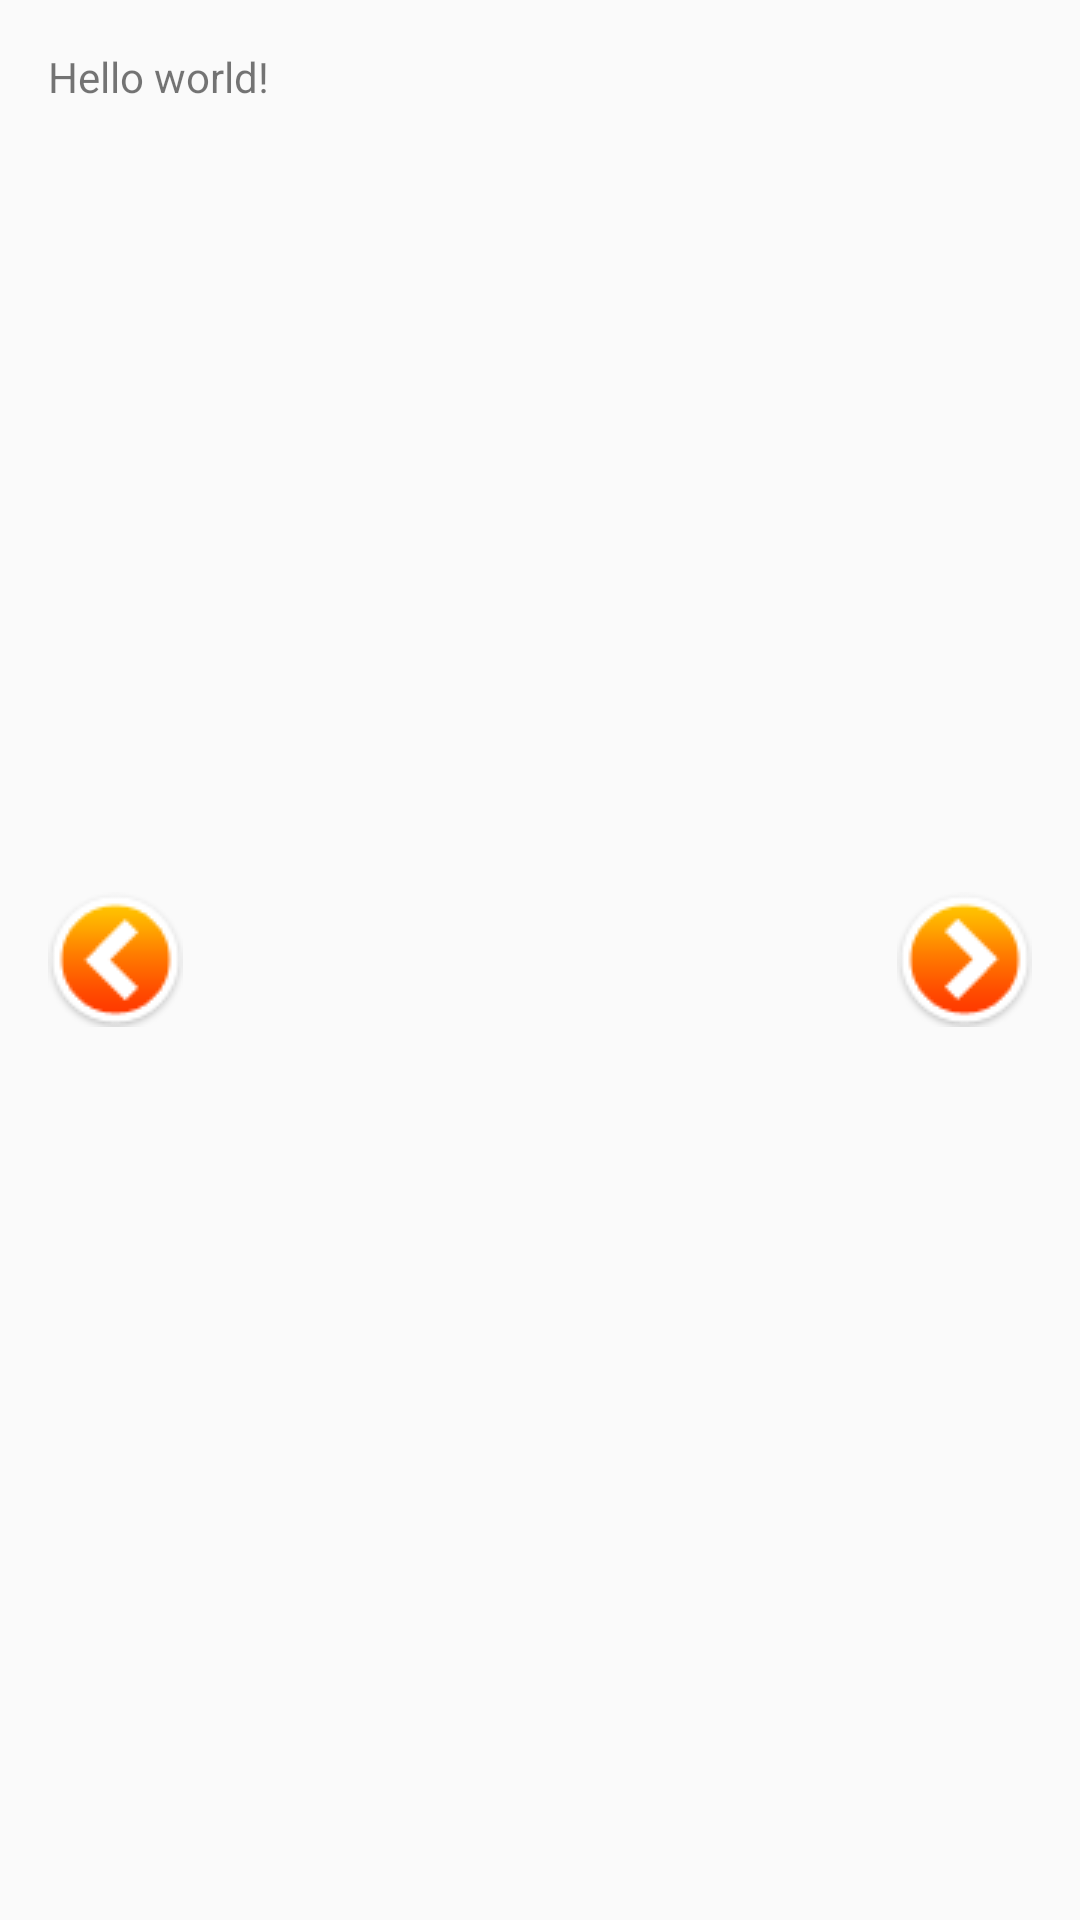

Icon click points for this 1080px x 1920px phone screenshot, format [x,y]:
next off: [964,965]
prev off: [115,965]
